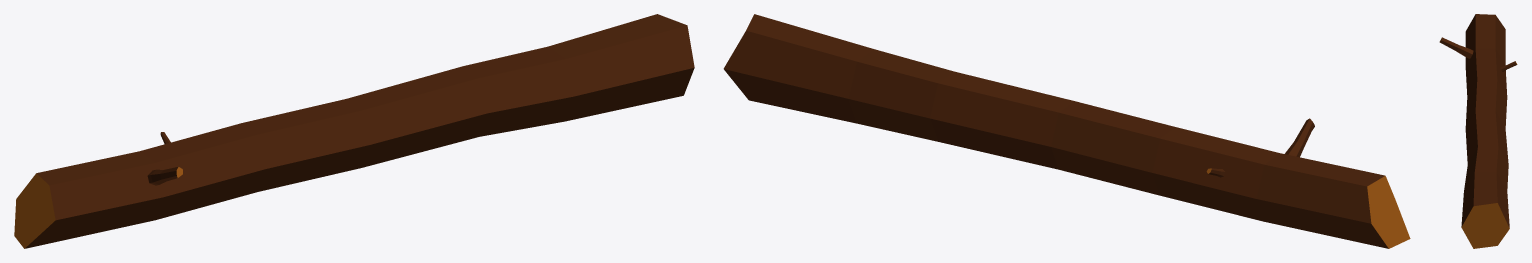
File: manty_kaatunut.fbx
3 renders of one model, left to right at view 1: azimuth 30°, elevation 25°; view 2: azimuth 150°, elevation 25°; view 3: azimuth 270°, elevation 25°, orthographic. The views are drawn at different scales.
Parts seen in each view (by area): view 1: Cylinder.001; view 2: Cylinder.001; view 3: Cylinder.001.
Part boxes in pixels (left/top/right/bottom): Cylinder.001: left=14, top=14, right=694, bottom=248; Cylinder.001: left=723, top=14, right=1410, bottom=248; Cylinder.001: left=1439, top=14, right=1517, bottom=248.
Bounding box in the file's own units: 484 × 53.37 × 78.22.
